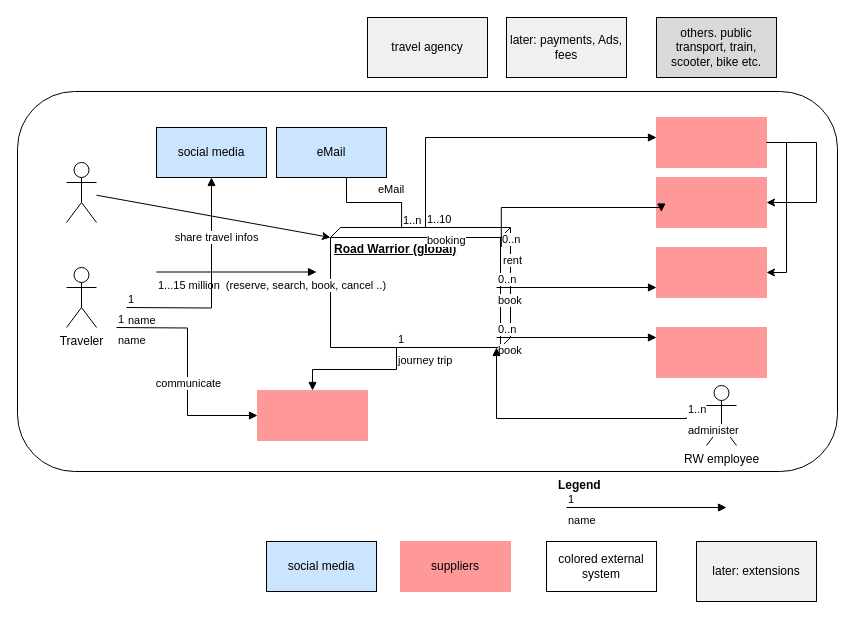
This 855x619 diagram has some shape labels left out. Each missing label, with the centre of its shape:
"Airline" goes at point 711,272.
"car rental" goes at point 711,202.
"Hotel" goes at point 711,352.
"suppliers help support" goes at point 312,415.
"Travel Assistent" goes at point 81,192.
"travel systems (i.e, SABRE, APOLLO)" goes at point 711,142.
